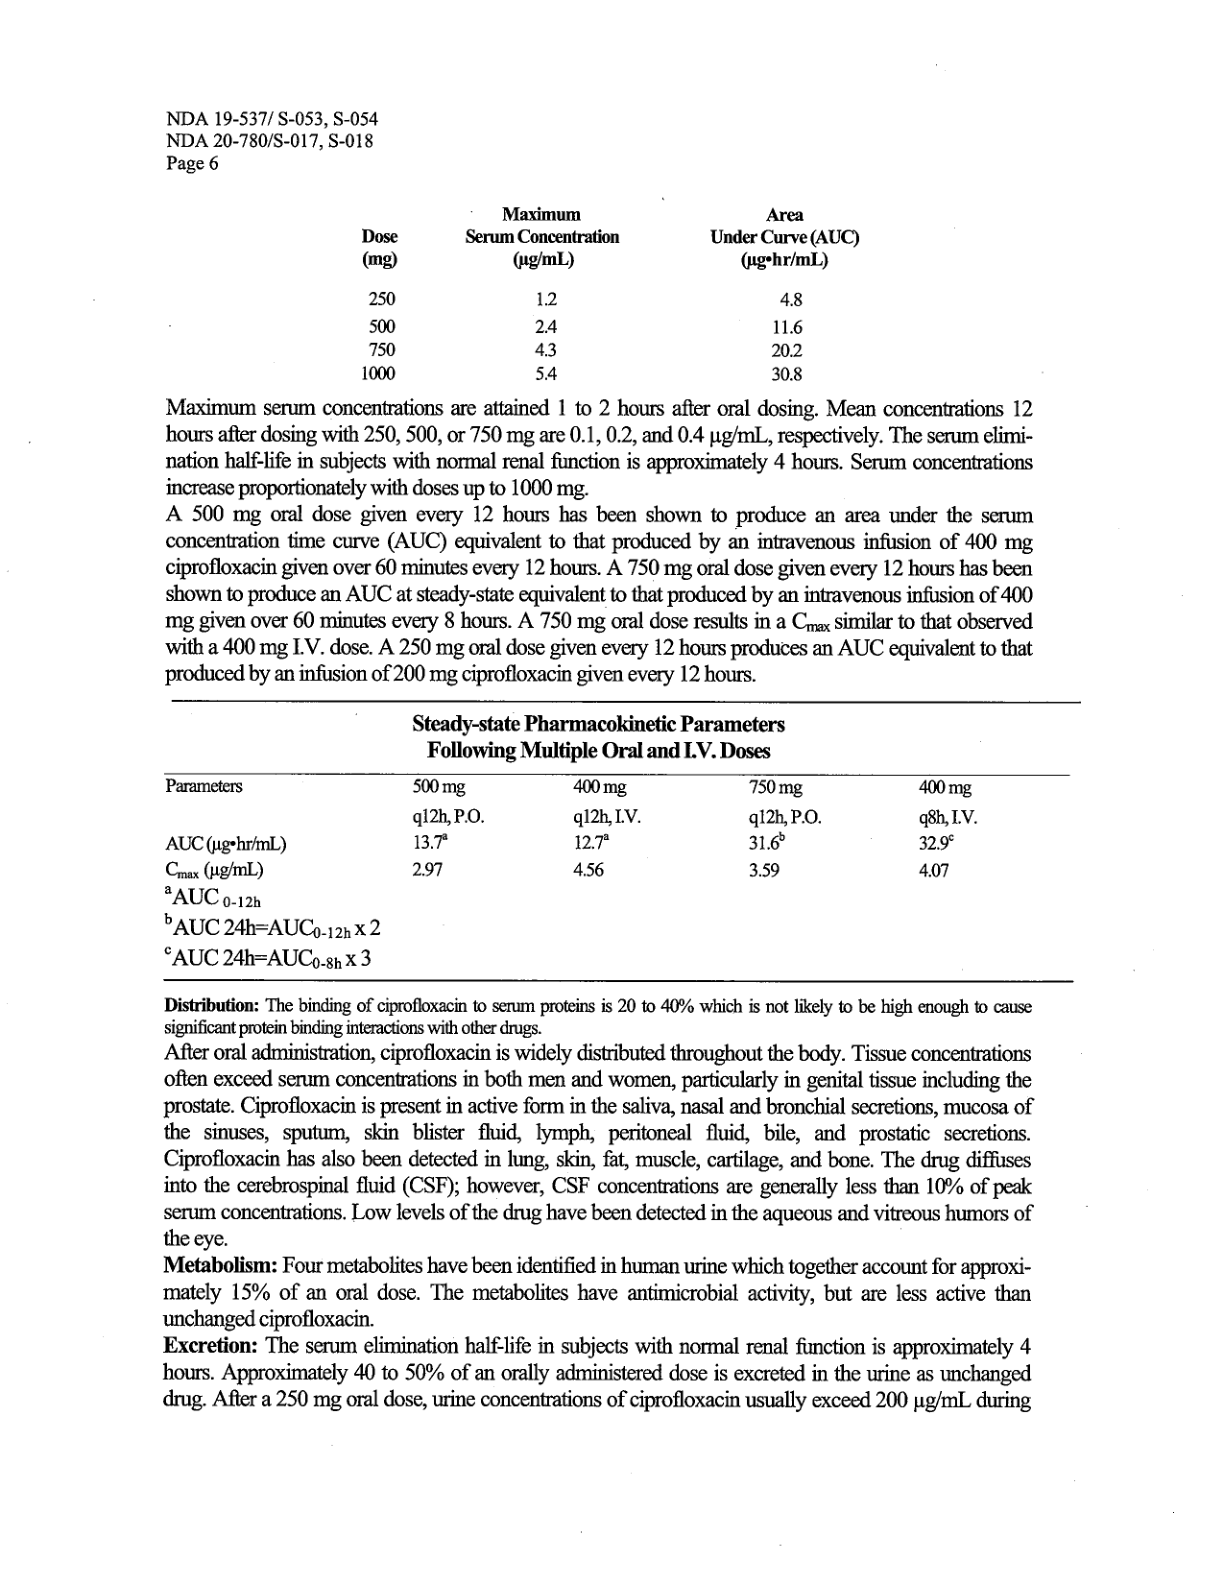nolines: (357, 201, 861, 384)
partial_lined: (163, 699, 1081, 984)
